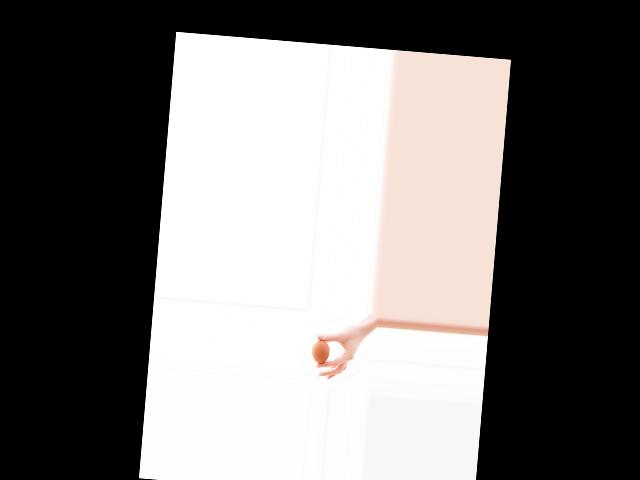egg: (310, 339, 329, 364)
